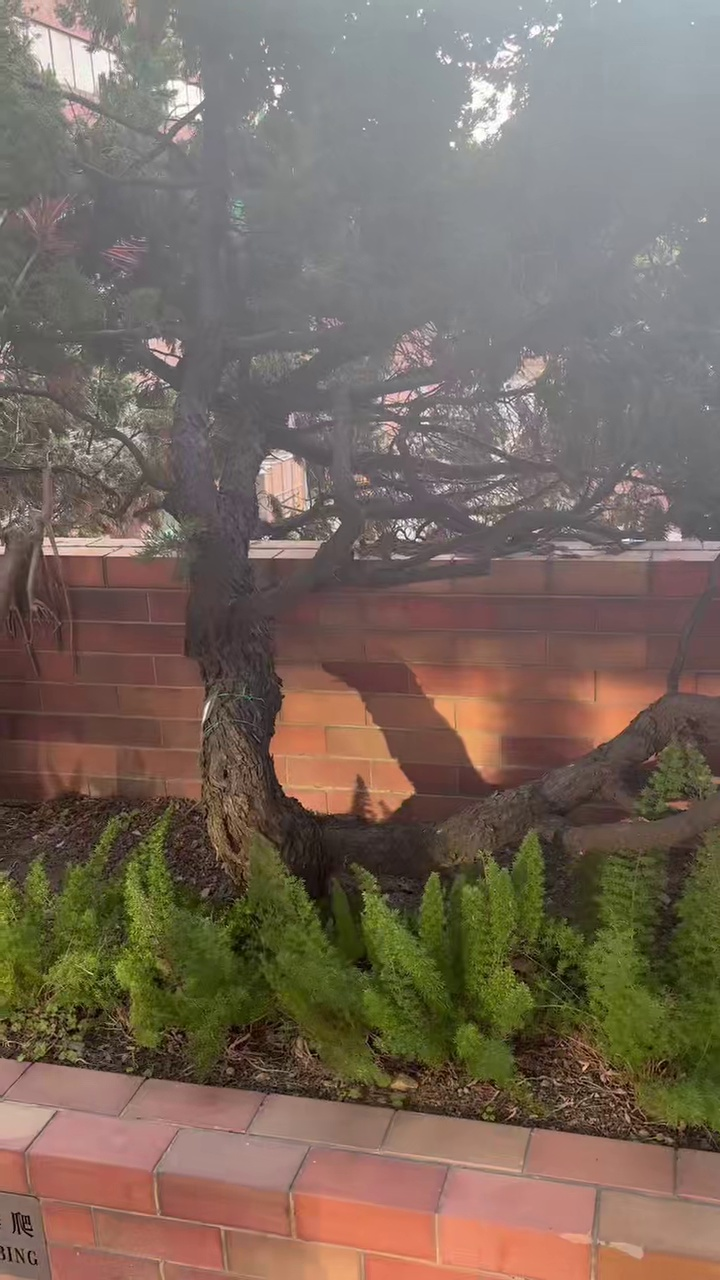Juniperus chinensis: (0, 0, 719, 887)
